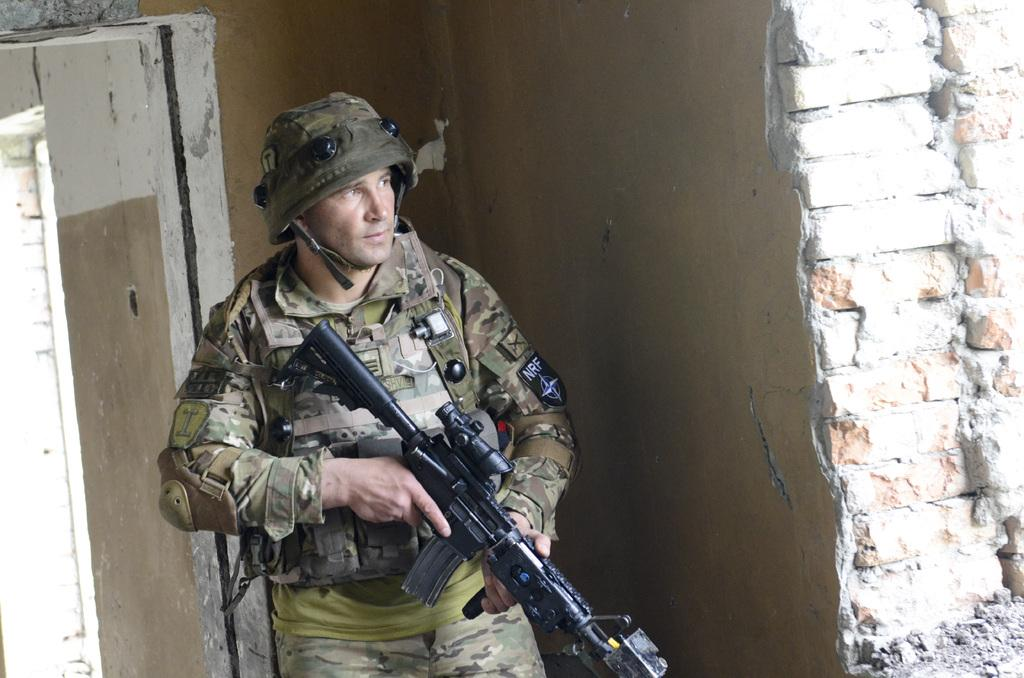Rifle: (255, 347, 651, 678)
